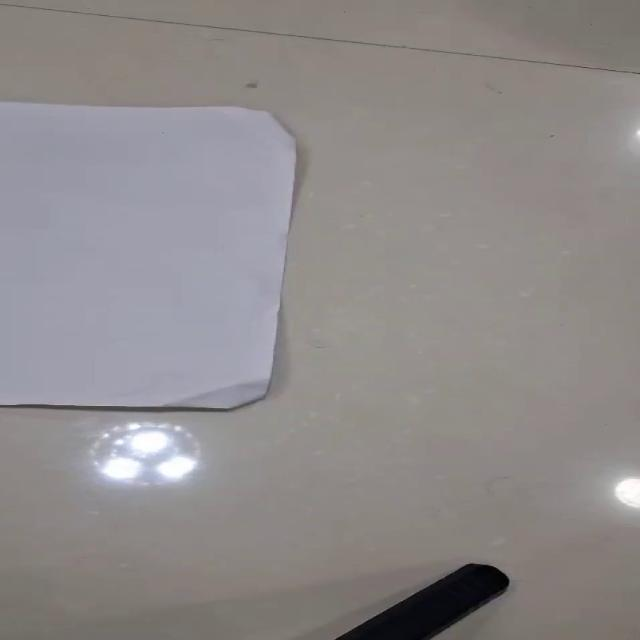paper: (0, 100, 297, 410)
